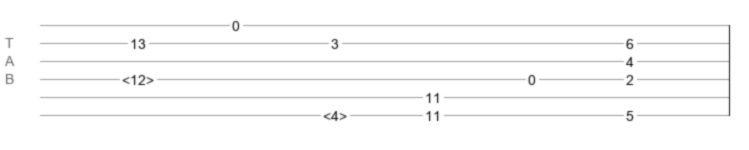0: (232, 18, 240, 28), (528, 72, 536, 82)
11: (425, 108, 441, 118), (425, 90, 441, 100)
13: (130, 36, 146, 46)
2: (626, 72, 634, 82)
3: (331, 36, 339, 46)
4: (626, 54, 634, 64)
5: (626, 108, 634, 118)
6: (626, 36, 634, 46)
harmonic: (122, 72, 154, 82), (323, 108, 347, 118)
